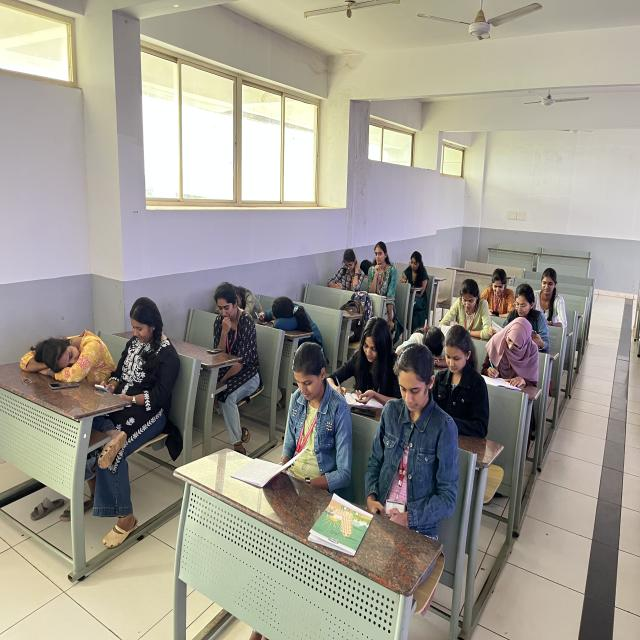Reading: (490, 282, 551, 340), (440, 278, 496, 340)
Sleeping: (15, 326, 130, 400), (257, 297, 332, 351), (392, 317, 456, 371)
Using Phone: (369, 346, 460, 538), (97, 302, 189, 463), (274, 339, 353, 491), (204, 276, 266, 404), (482, 267, 522, 324), (397, 247, 432, 296)
Writing: (325, 310, 402, 410), (480, 314, 540, 390), (326, 246, 366, 295)
